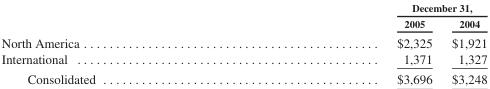table: (0, 1, 486, 86)
table column: (0, 1, 245, 86), (245, 1, 441, 86), (441, 1, 486, 86)
table column header: (0, 1, 486, 32)
table row: (0, 32, 486, 50), (0, 50, 486, 68), (0, 68, 486, 86), (0, 15, 486, 32), (0, 1, 486, 15)
table spanning cell: (245, 1, 486, 15)
